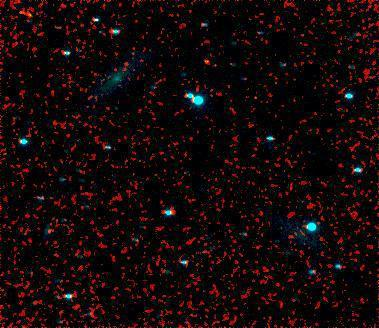star: (240, 84, 270, 114)
